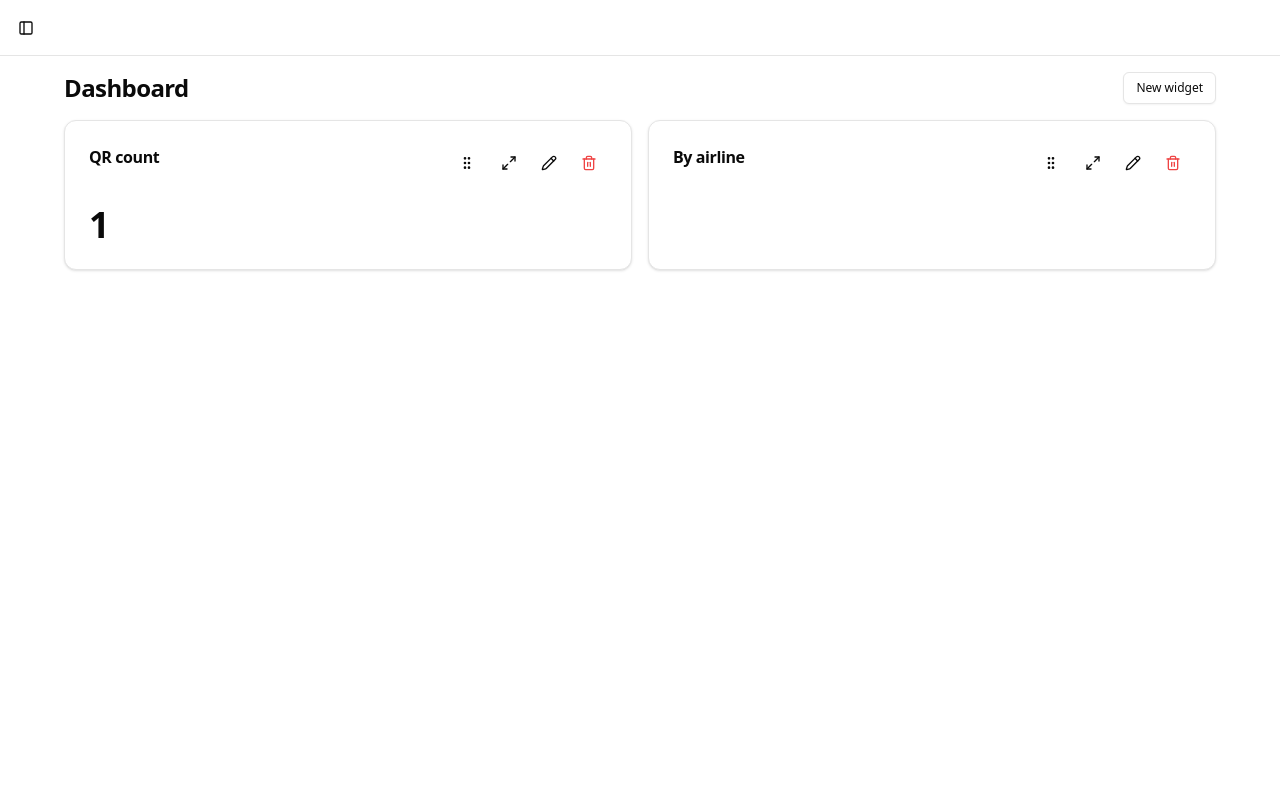
Test: DashboardPage › toasts and reverts when the layout save fails
Note: Resize goes through the same persist → save path a drop does.
Click the button named "Resize QR count": (509, 163) left=491, top=145, right=527, bottom=181
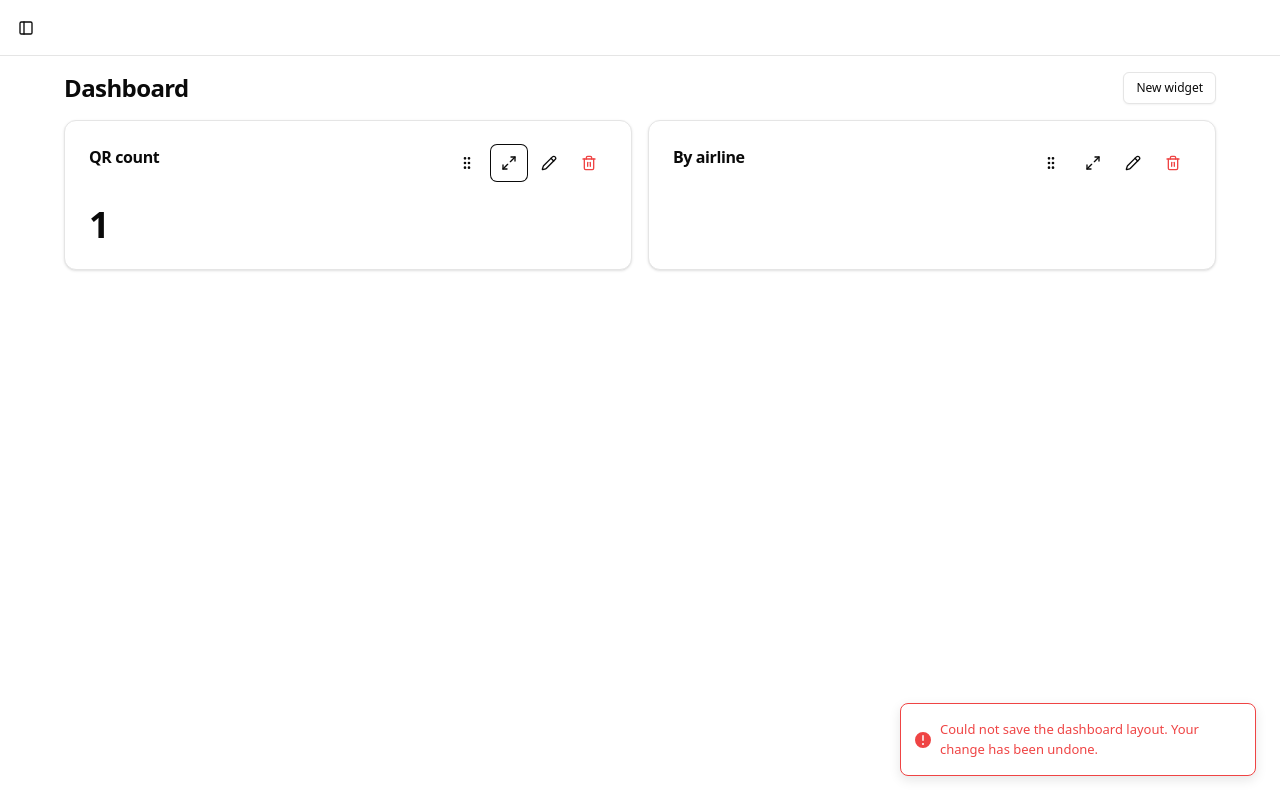
Now the text "Could not save" is shown, box left=940, top=720, right=1199, bottom=758
